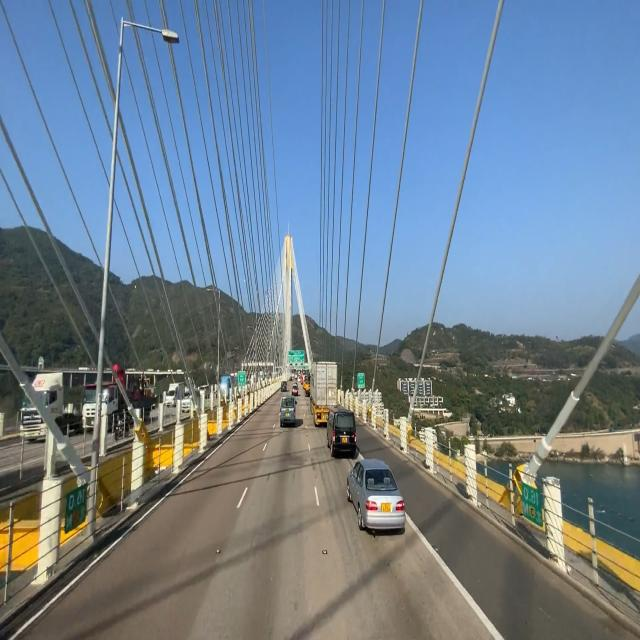Car: (345, 456, 404, 536), (325, 405, 357, 461), (279, 390, 298, 431)
